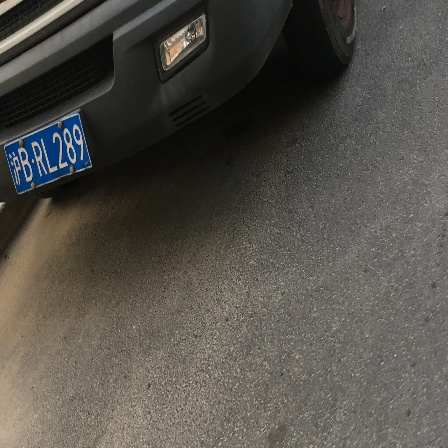plate: (3, 112, 93, 195)
